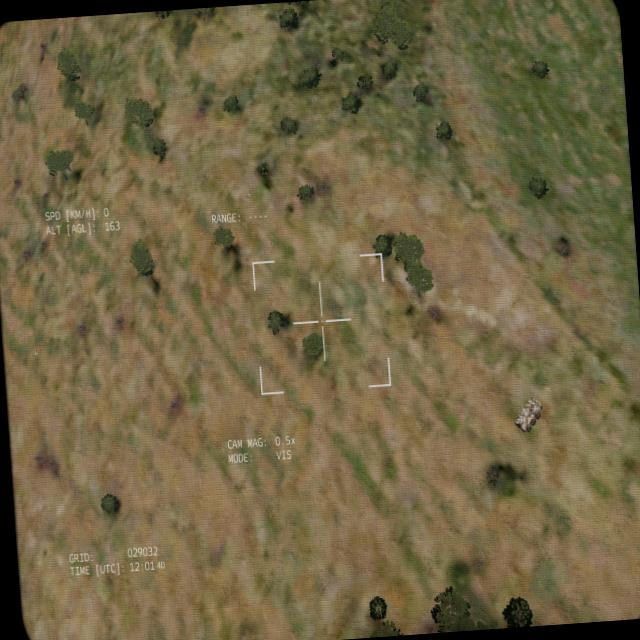apc: (512, 394, 543, 433)
